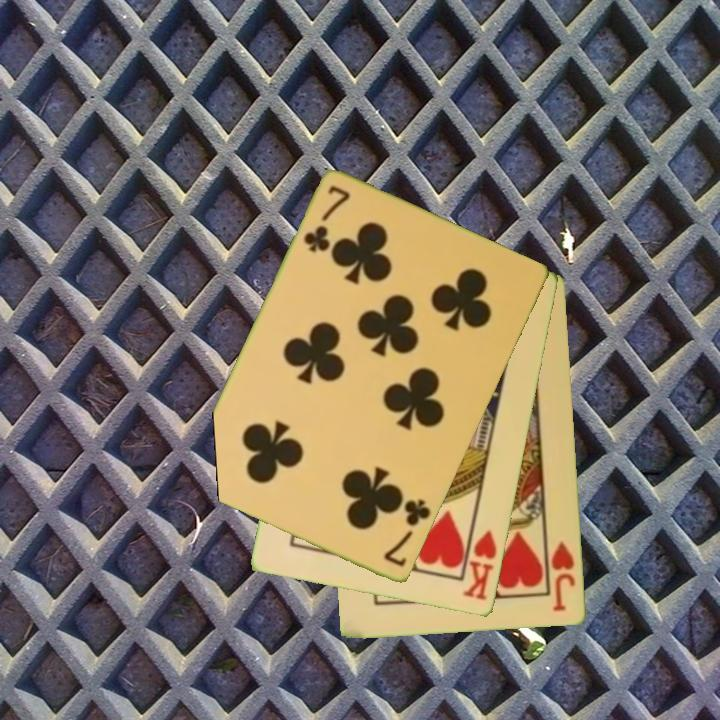7c: (300, 182, 354, 257), (380, 496, 434, 570)
Jh: (543, 533, 579, 615)
Kh: (459, 519, 500, 604)
